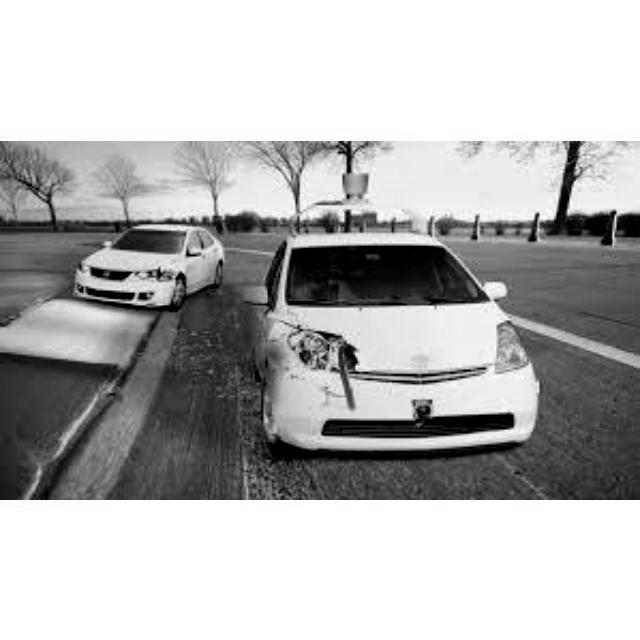Headlight-damage: (281, 318, 362, 380)
